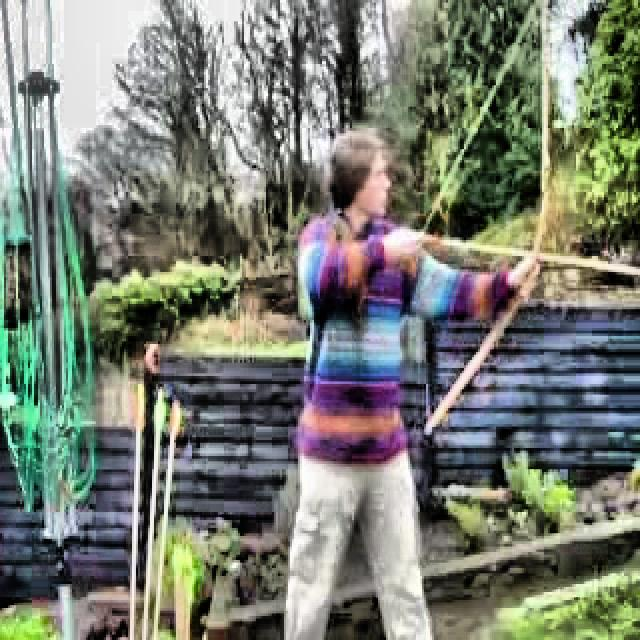I: (272, 101, 544, 640)
